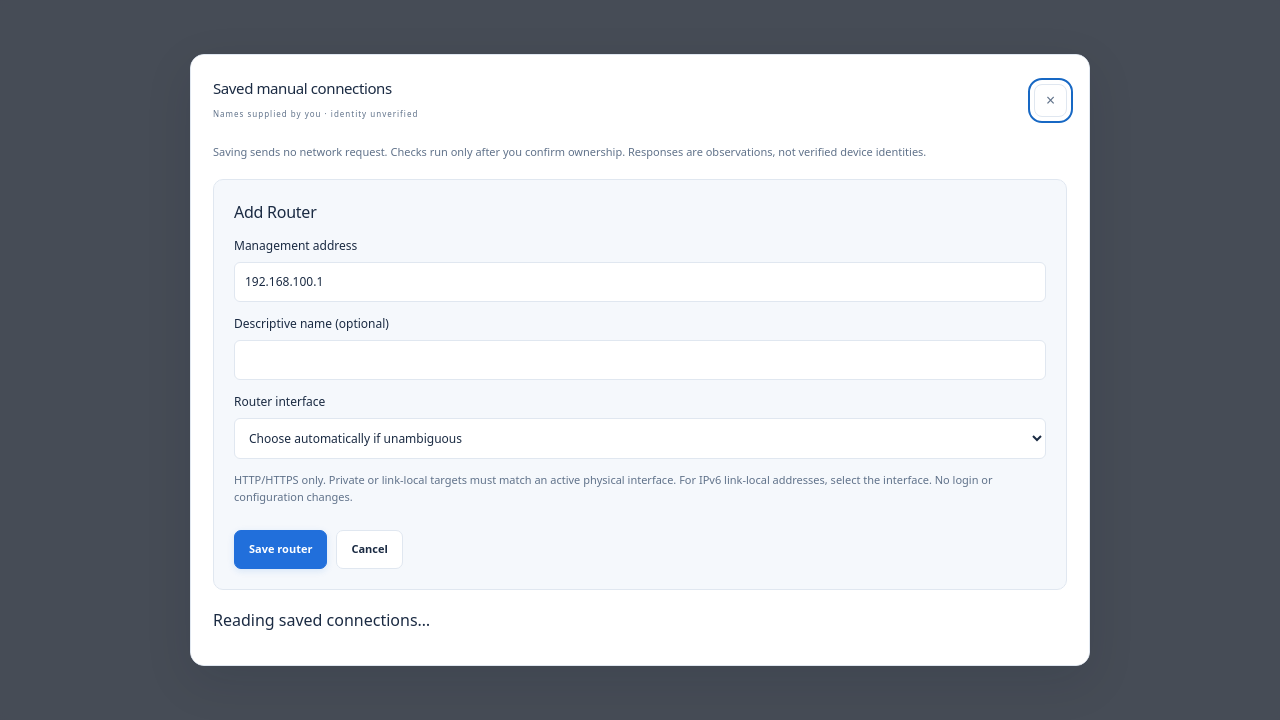
Test: late initial list cannot hide a newly persisted entry
Click the button "Save router": click(281, 549) [234,530,327,568]
(page scrolled)
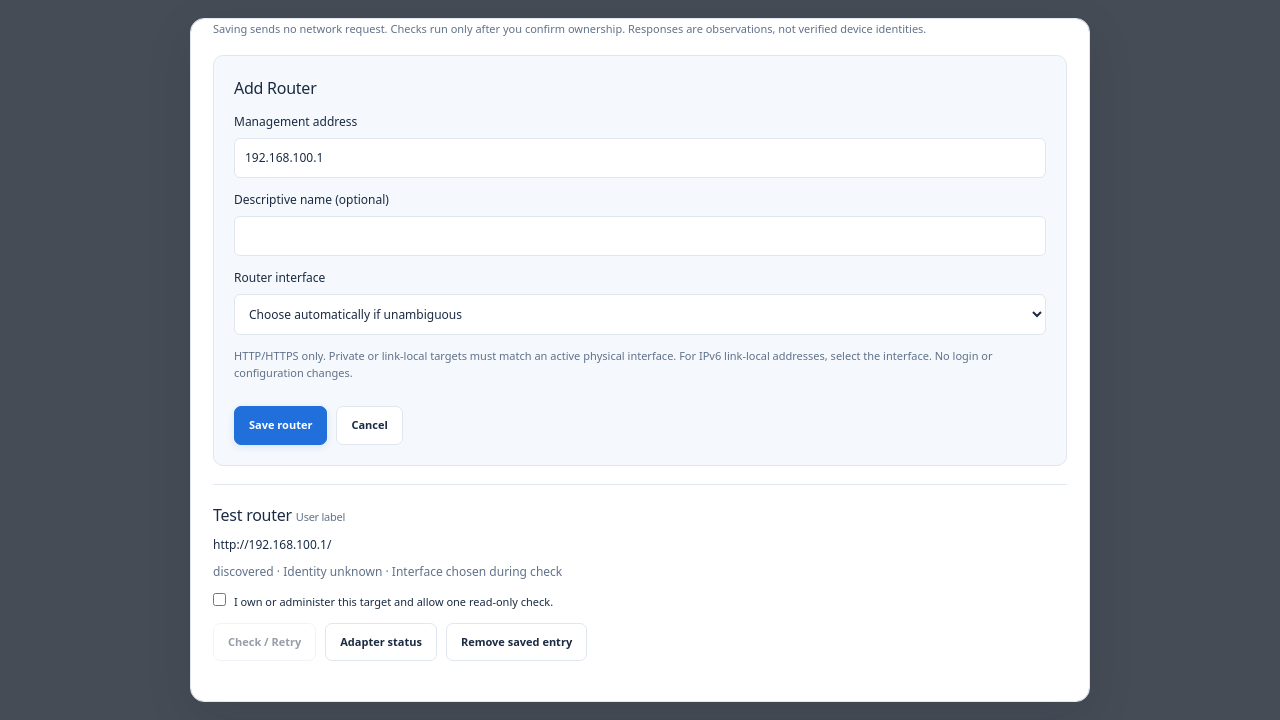
Now the element "Test router" is shown, box [213,484,1067,679]
